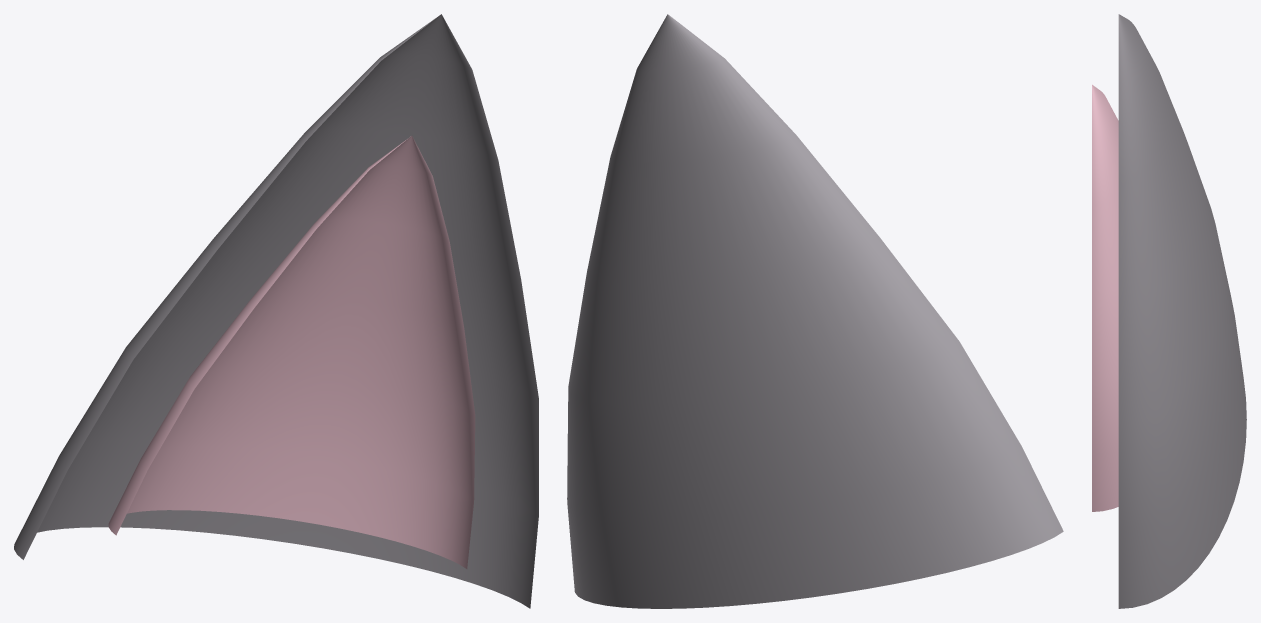
The model's file is cat_ear_l.glb.
The picture shows the model from 3 angles, left to right: view 1: azimuth 30°, elevation 25°; view 2: azimuth 150°, elevation 25°; view 3: azimuth 270°, elevation 25°; orthographic projection. The views are drawn at different scales.
Size of the model in its own units: 0.0503 by 0.0575 by 0.0145.
